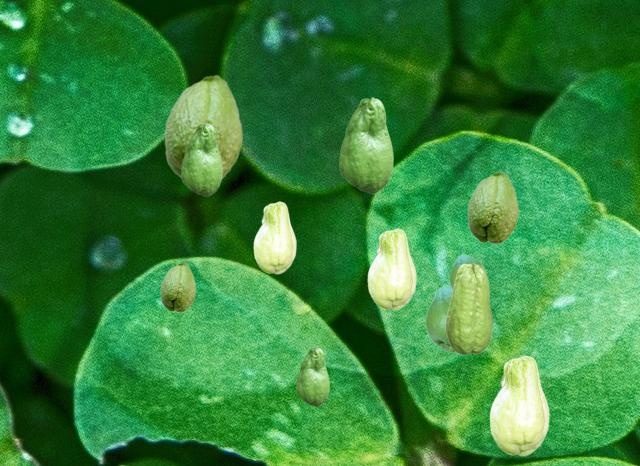sayote: (164, 74, 242, 179), (489, 355, 548, 455), (339, 97, 392, 192), (445, 263, 492, 354), (367, 228, 415, 309), (467, 171, 518, 243), (253, 201, 295, 273), (181, 123, 221, 195), (425, 285, 455, 352), (296, 347, 328, 405), (160, 262, 195, 311), (449, 254, 484, 288)
